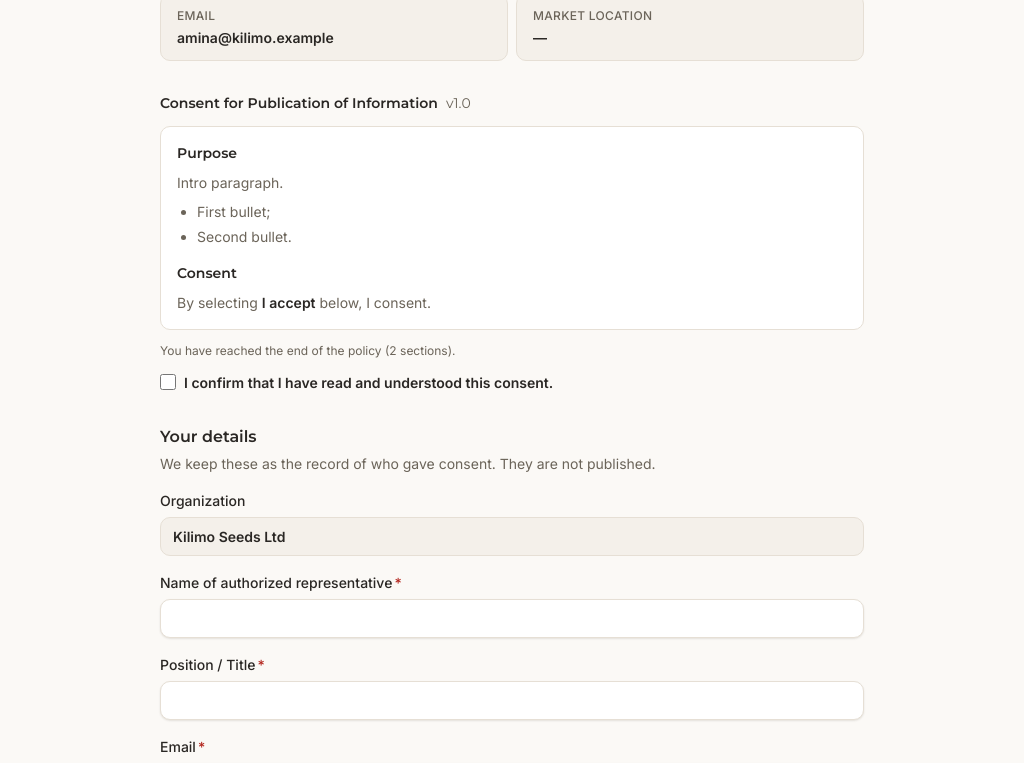
Accept (FR-9, FR-10) › with everything complete sends the trimmed identity and shows the published-profile link
(page scrolled)
Click the checkbox at (168, 382), box x1=160 y1=374 x2=176 y2=390
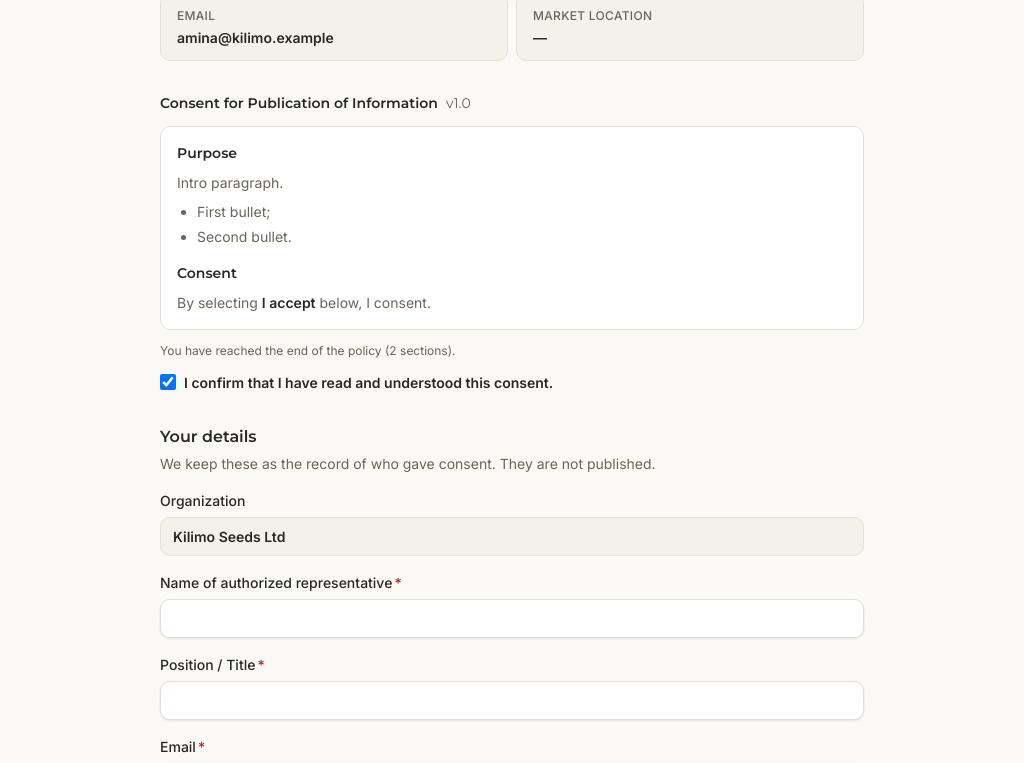
Type "Amina Juma" into the field labelled "Name of authorized representative*" at (512, 618), box x1=160 y1=598 x2=864 y2=638
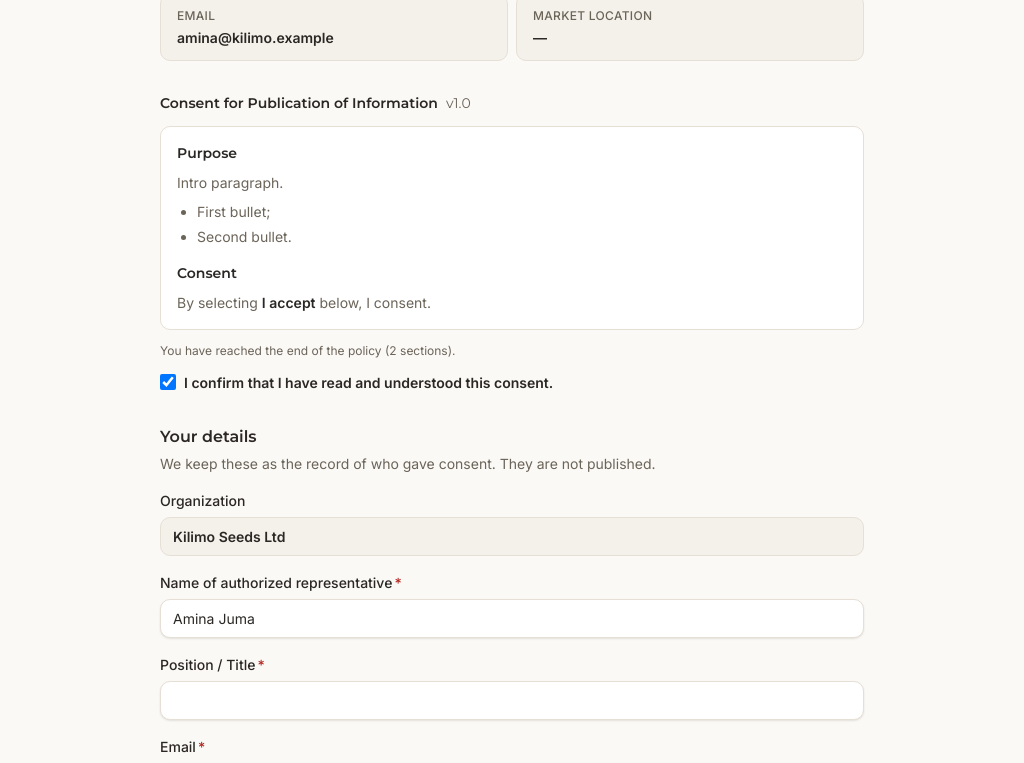
Type "Director" into the field labelled "Position / Title*" at (512, 700), box x1=160 y1=680 x2=864 y2=720
(page scrolled)
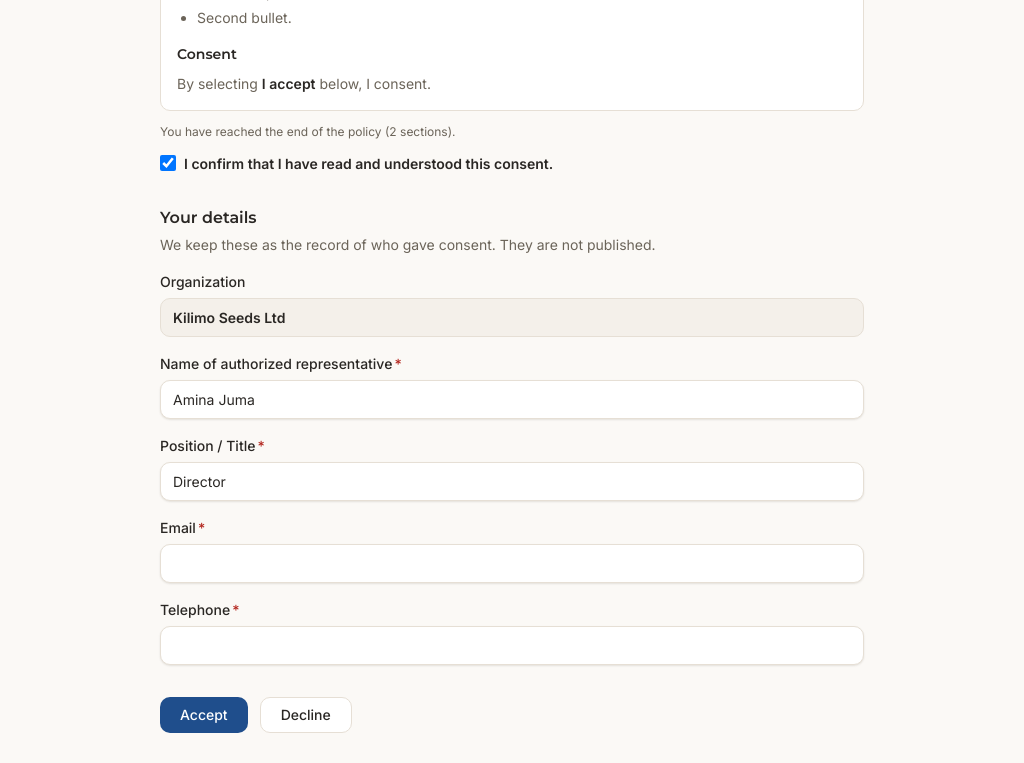
Type "  amina@kilimo.example " into the field labelled "Email*" at (512, 563), box x1=160 y1=544 x2=864 y2=582
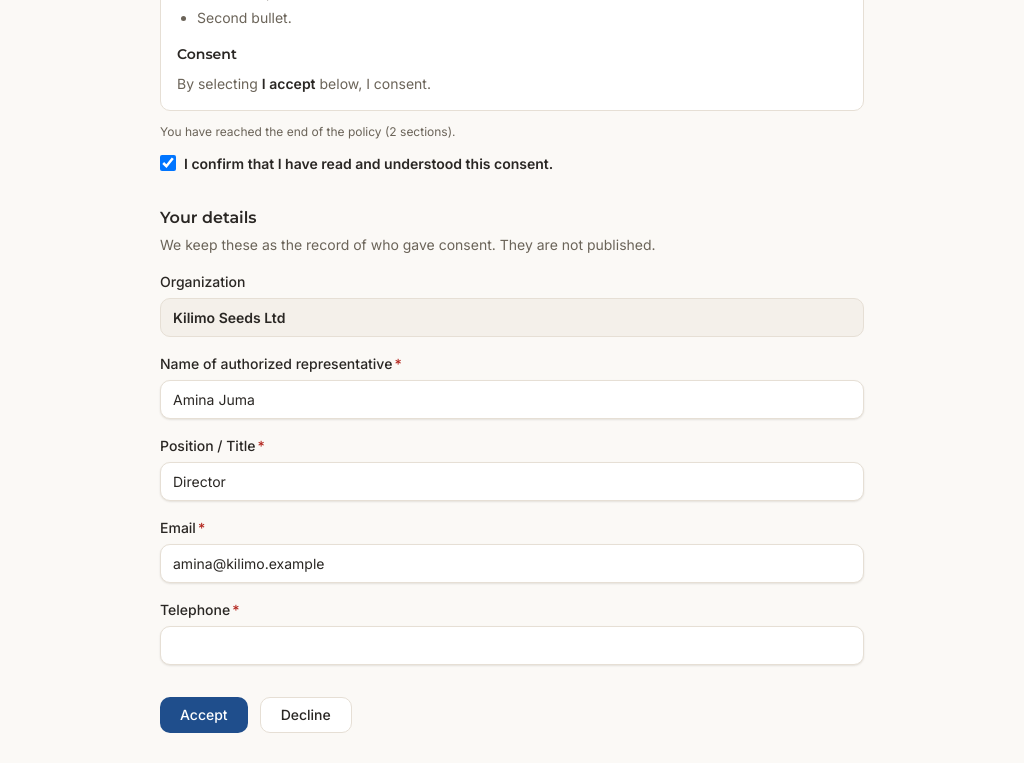
Type "+255700111222" into the field labelled "Telephone*" at (512, 645), box x1=160 y1=626 x2=864 y2=664
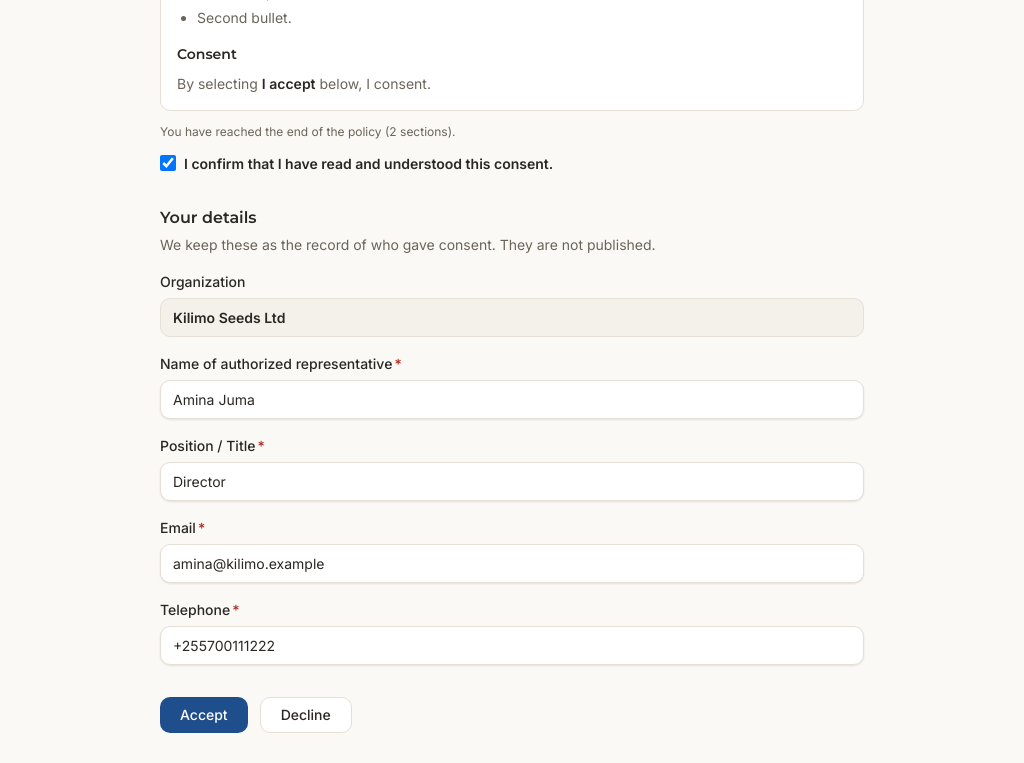
Click the button "Accept" at (204, 714), box x1=160 y1=696 x2=248 y2=732
(page scrolled)
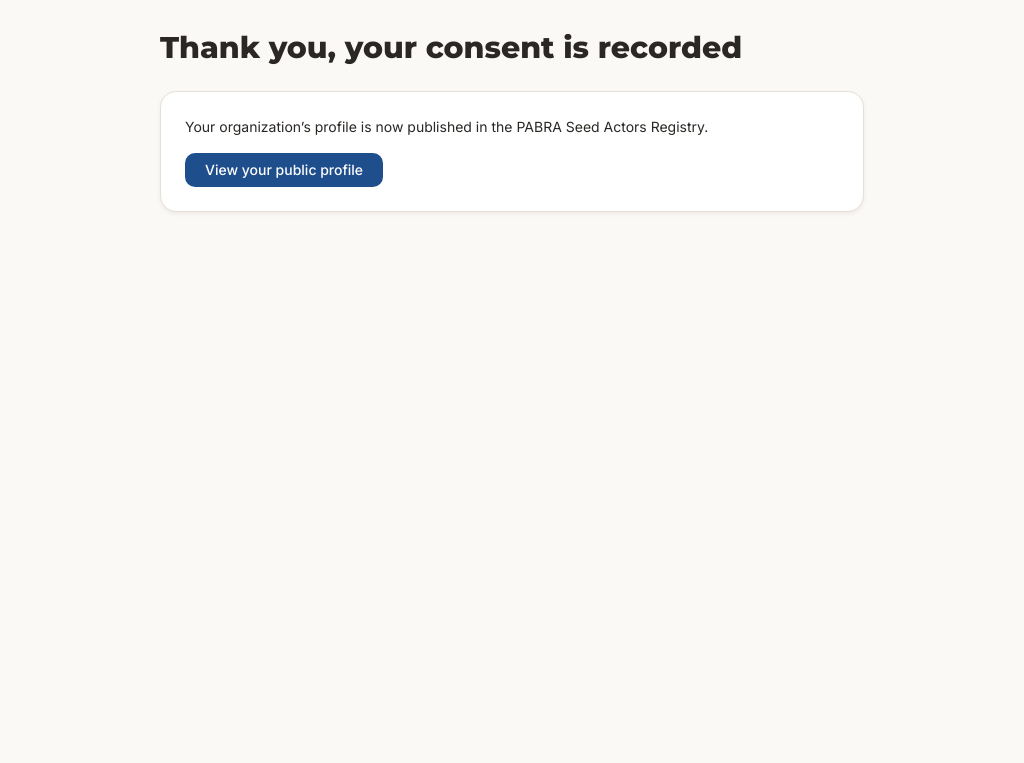
Expected: the heading "Thank you, your consent is recorded" is shown, x1=160 y1=29 x2=742 y2=66
